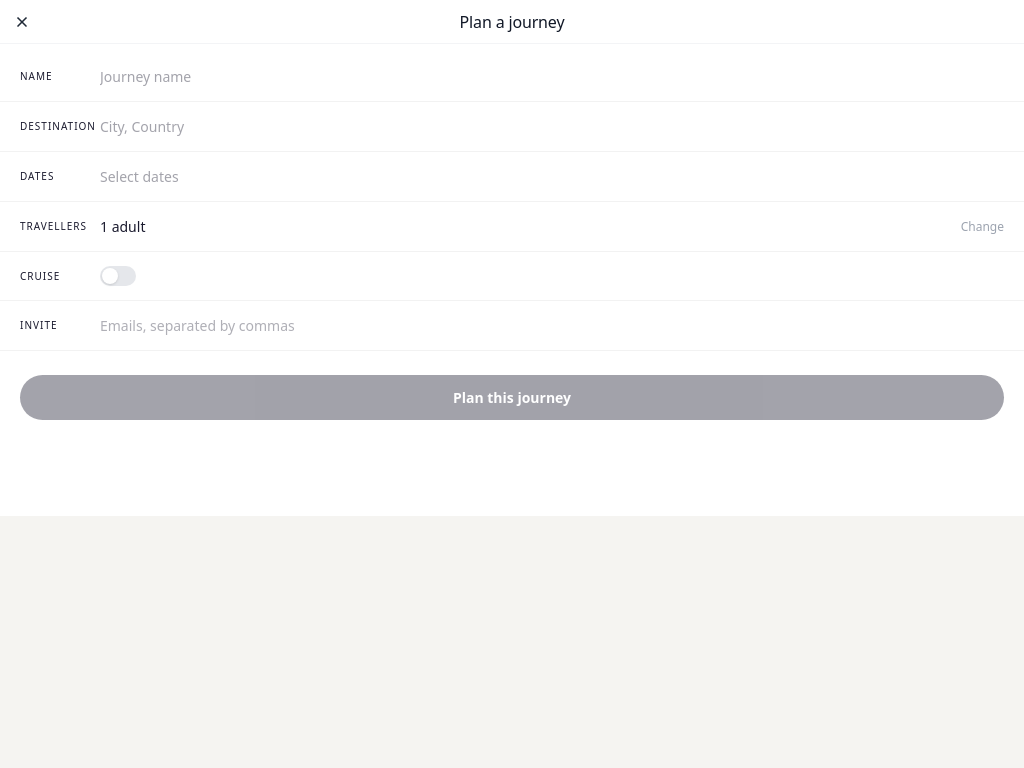
Scenario: Plan a journey › picking the start and end dates does not close the calendar; Done does
Click the button "Dates Select dates" at (37, 176), box [0,152,1023,202]
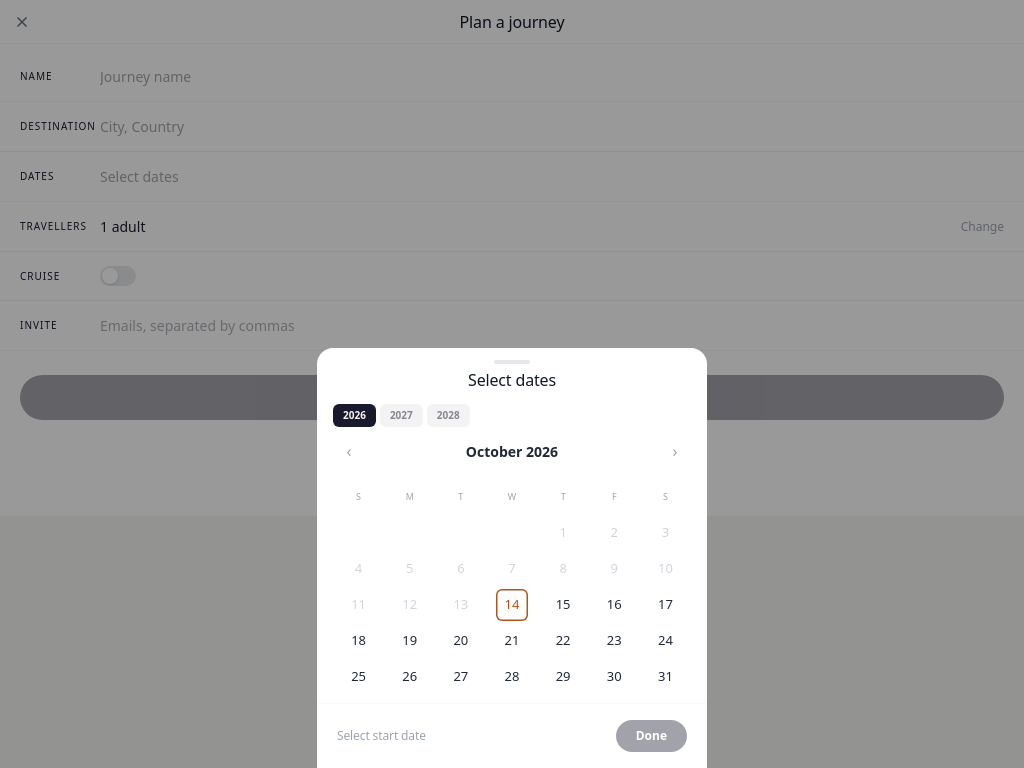
Click the button named "Next month" at (675, 451), box [659,435,691,467]
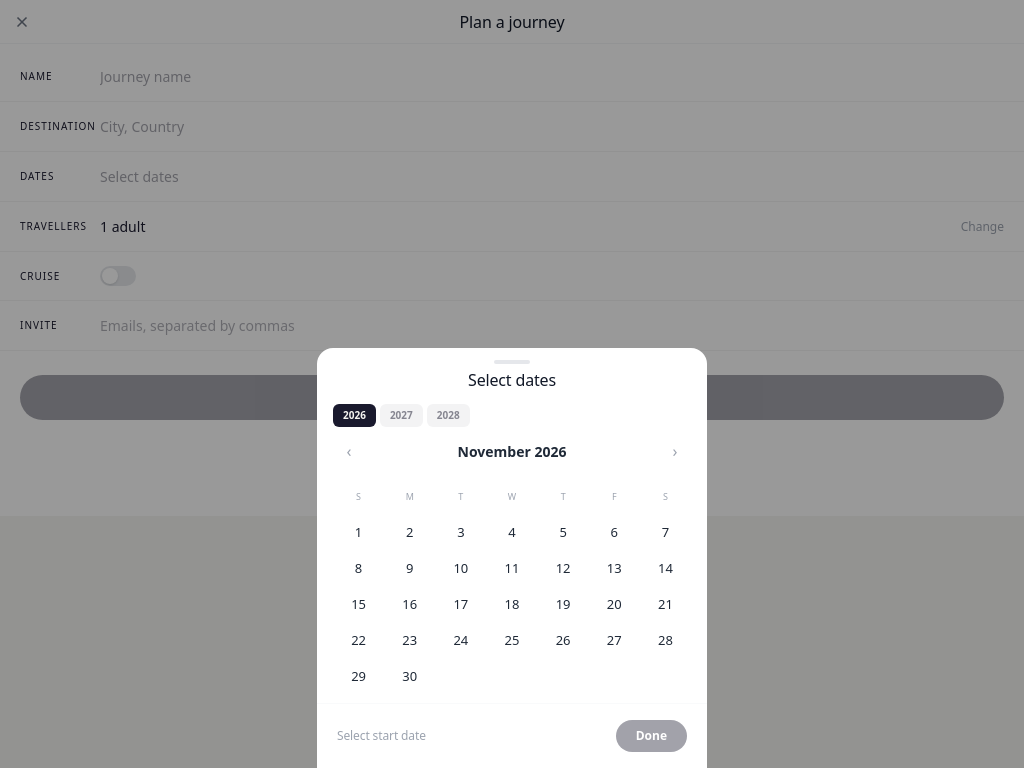
Click the button "10" at (461, 569), box [445,553,477,585]
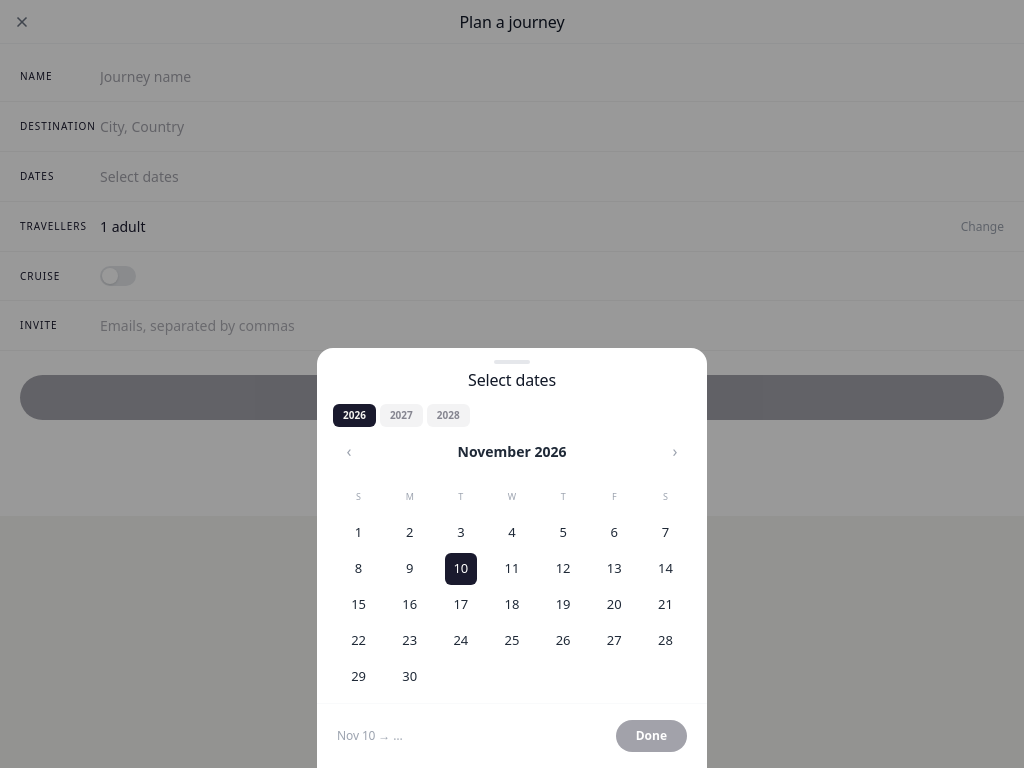
Click the button "15" at (359, 605), box [343,589,375,621]
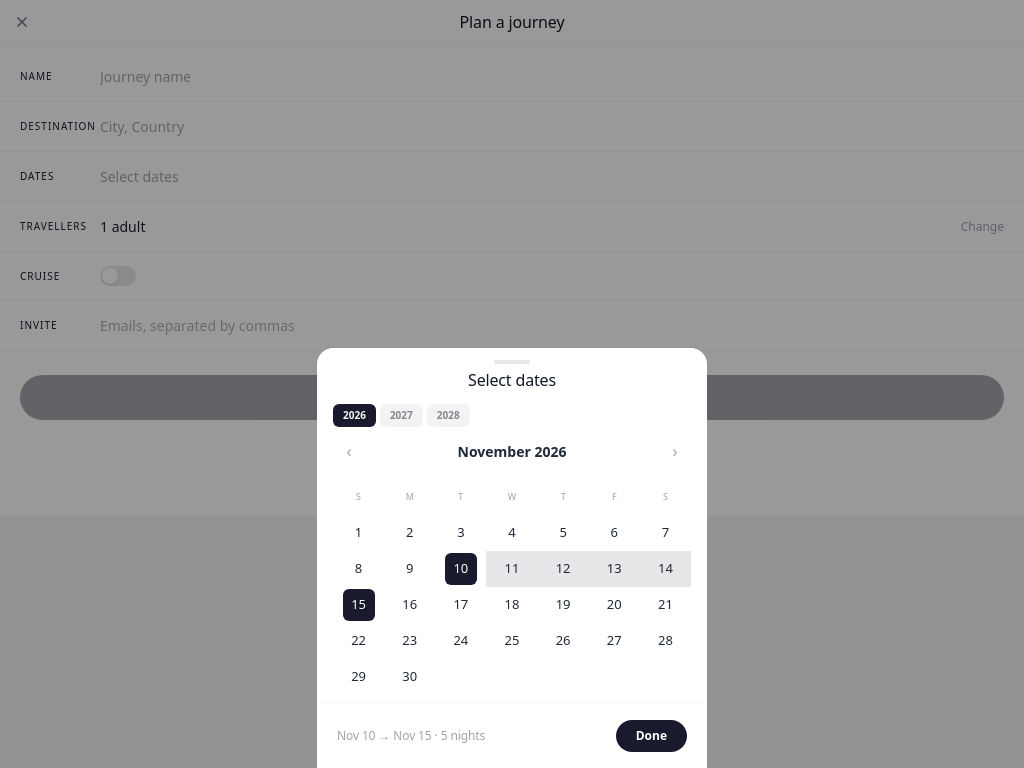
Expected: the text "Select dates" is shown 2 times, [100,167,179,186]; [468,369,556,391]
Expected: the text "Nov 10 → Nov 15 · 5 nights" is shown, [337,727,485,744]
Expected: the button "Done" is enabled
Click the button "Done" at (651, 736), box [616,720,687,752]
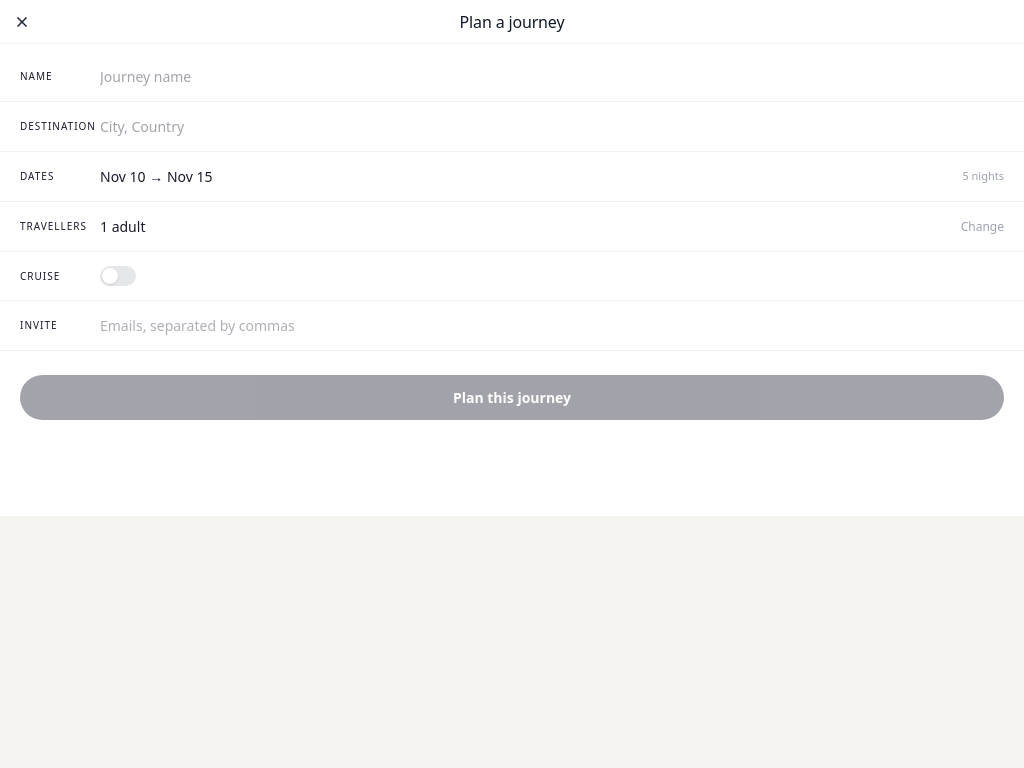
Expected: the button "Done" is gone
Expected: the button "Dates Nov 10 → Nov 15 5 nights" is shown, [0,152,1023,202]
